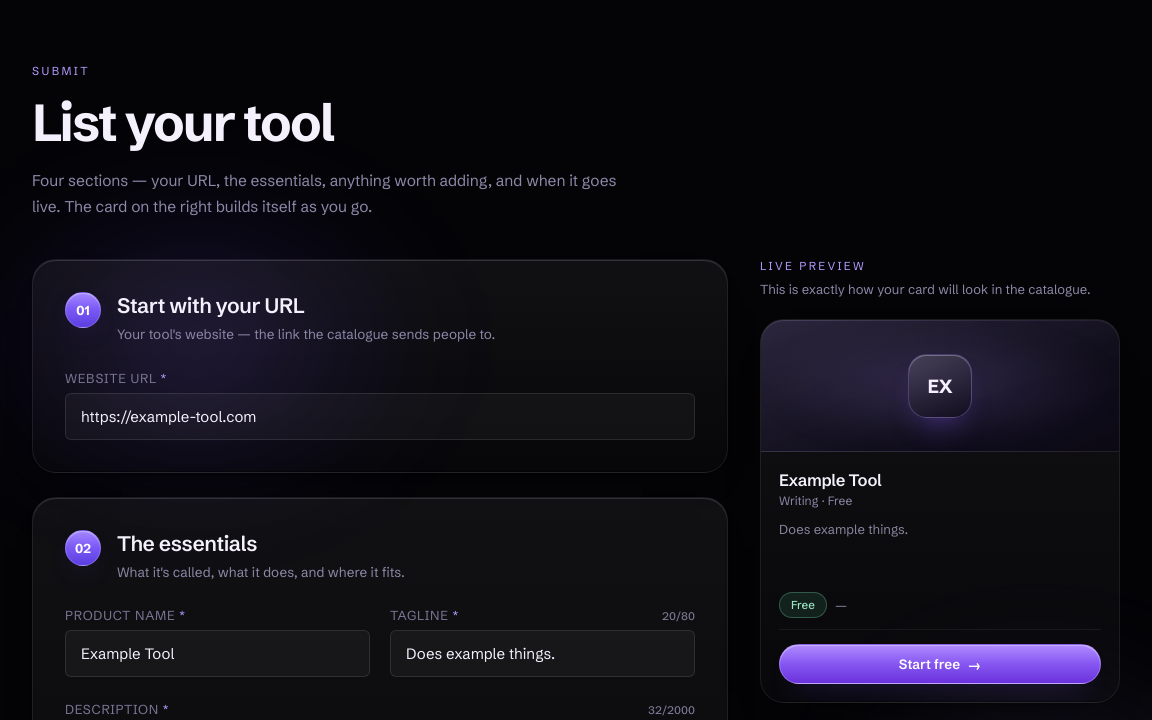
Test: SubmitPage with accounts › signed out: Launch opens the gate, sends nothing, and leaves the form intact
Replace the text in the field labelled "Product name *" with "Edited Name" at (218, 654), box [65,630,370,677]
(page scrolled)
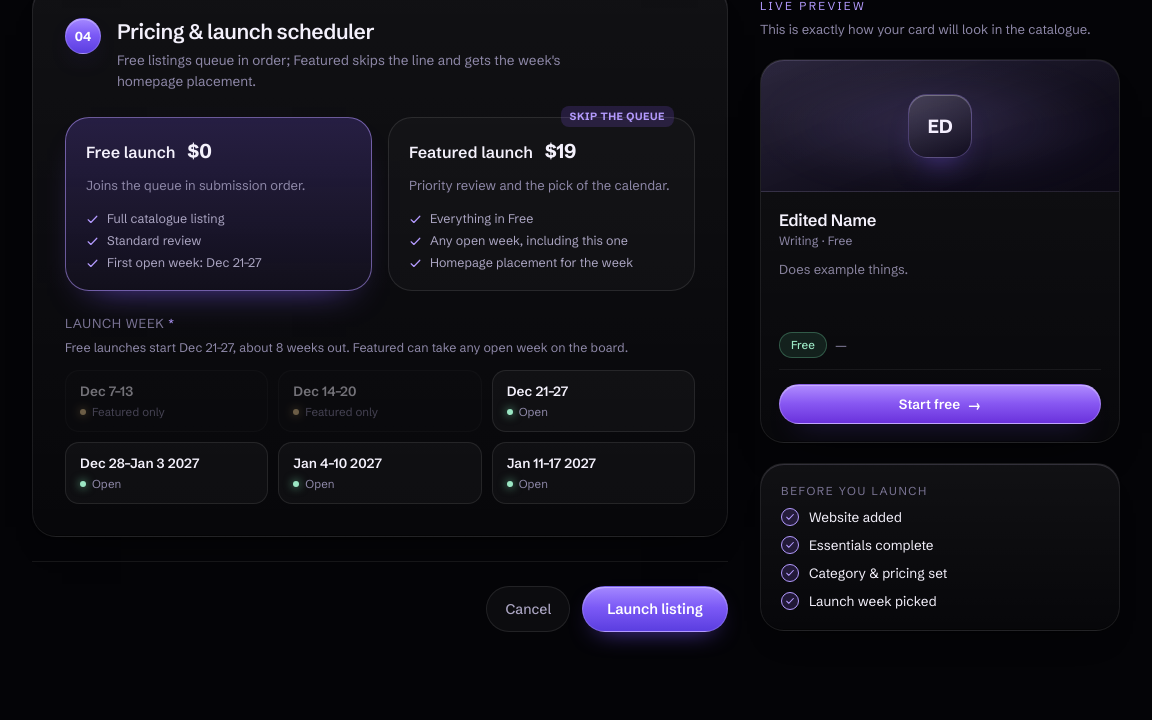
Click the button "Launch listing" at (655, 609), box [582,586,728,632]
(page scrolled)
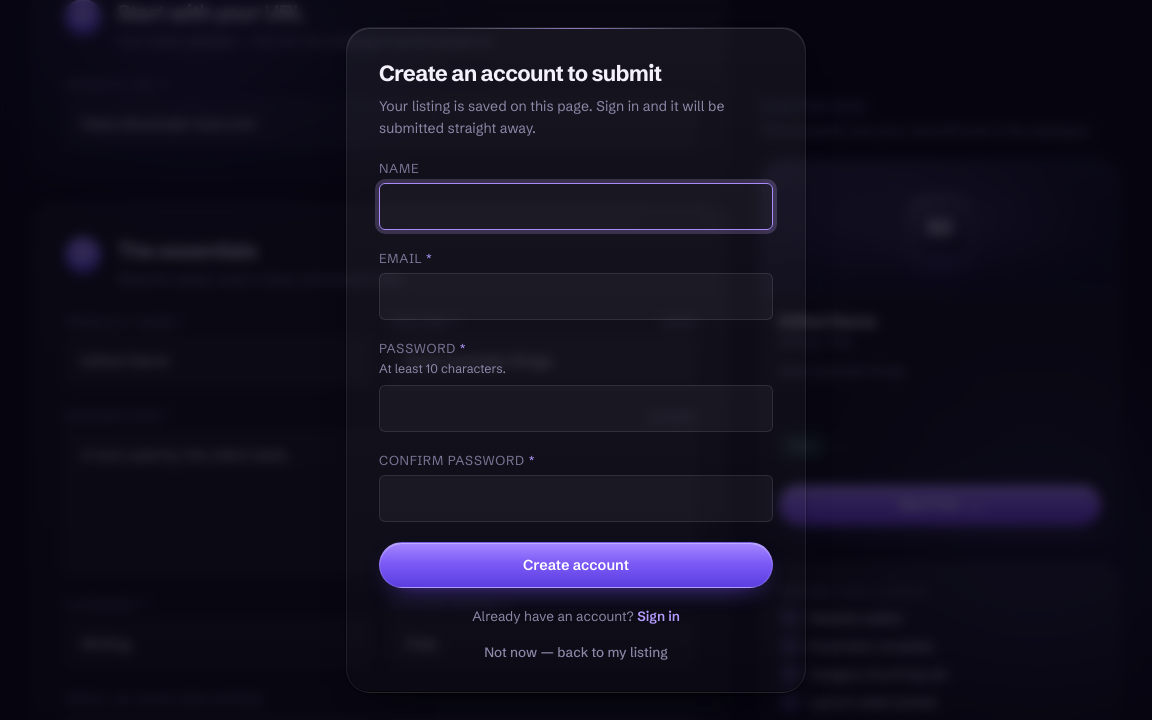
Check: the heading "Create an account to submit" is shown, box [379,60,662,87]
